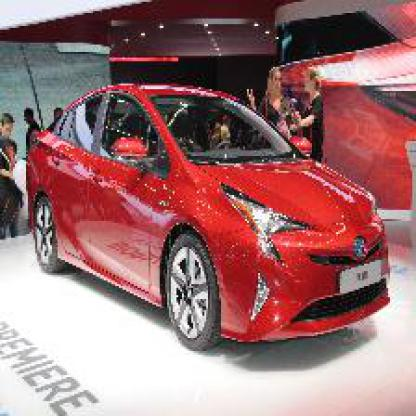not_emergency: (22, 76, 409, 364)
